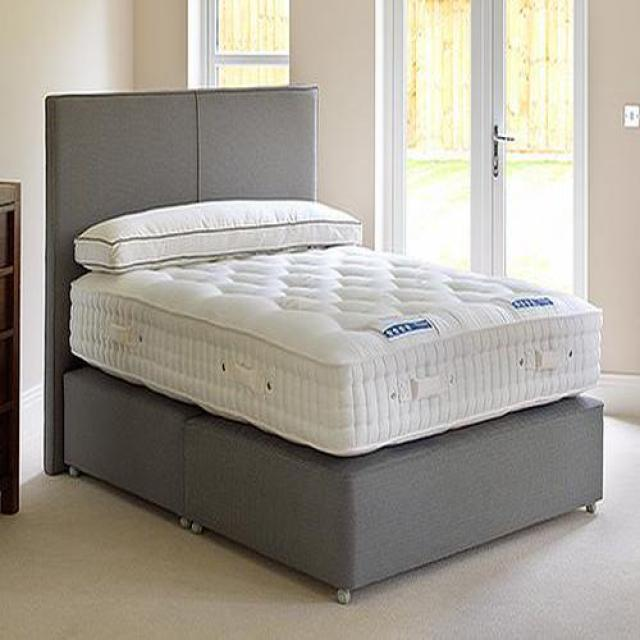bed: (40, 86, 604, 591)
